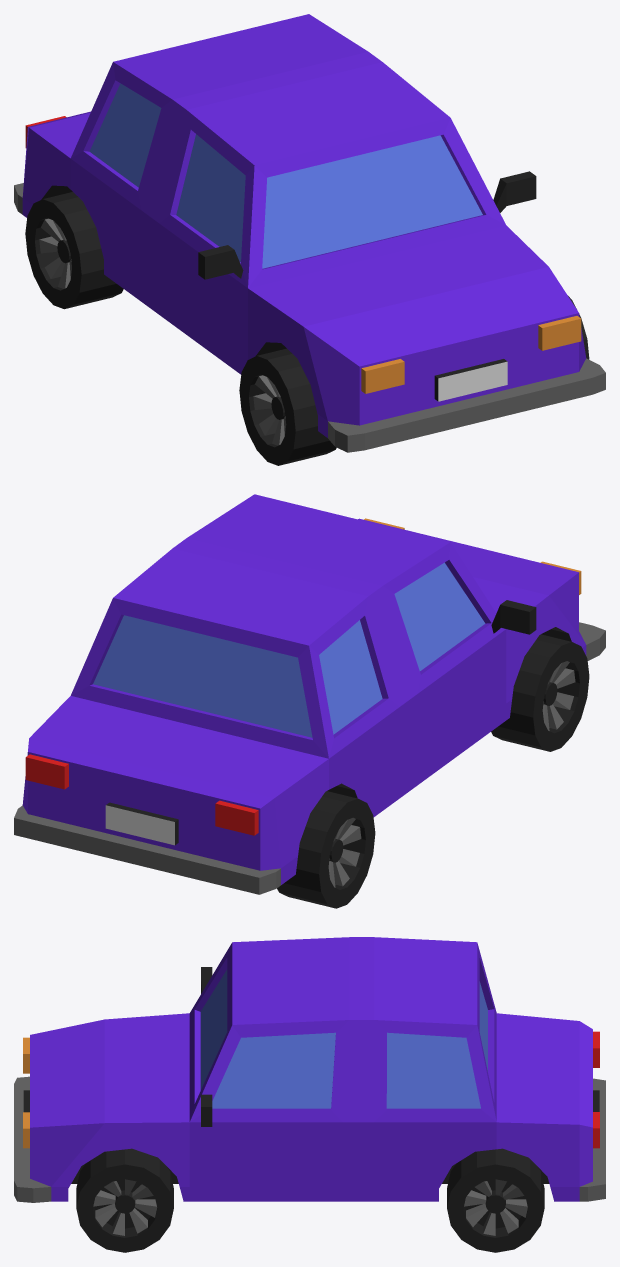
Rendered from Car.fbx.
3 renders of one model, top to bottom at view 1: azimuth 30°, elevation 25°; view 2: azimuth 150°, elevation 25°; view 3: azimuth 270°, elevation 25°, orthographic. The views are drawn at different scales.
Visible parts, largest first — view 1: Cube, Walec.001, Walec.003, Kostka.002, Kostka; view 2: Cube, Walec.003, Walec.001, Kostka.001, Kostka.002; view 3: Cube, Walec.003, Walec.001, Kostka.002, Kostka, Kostka.001.
Boxes of the visible parts, box(x1,y1,x2,y2) form: Cube: box(14, 14, 605, 452); Walec.001: box(239, 296, 589, 465); Walec.003: box(25, 192, 123, 309); Kostka.002: box(198, 171, 536, 279); Kostka: box(361, 316, 581, 393); Cube: box(14, 494, 605, 894); Walec.003: box(277, 791, 375, 908); Walec.001: box(491, 634, 589, 751); Kostka.001: box(25, 754, 258, 835); Kostka.002: box(491, 600, 536, 634); Cube: box(14, 937, 605, 1202); Walec.003: box(447, 1148, 544, 1252); Walec.001: box(76, 1148, 173, 1252); Kostka.002: box(201, 967, 212, 1126); Kostka: box(23, 1037, 29, 1148); Kostka.001: box(593, 1031, 599, 1148).
Bounding box in the file's own units: 513 × 363 × 917.
